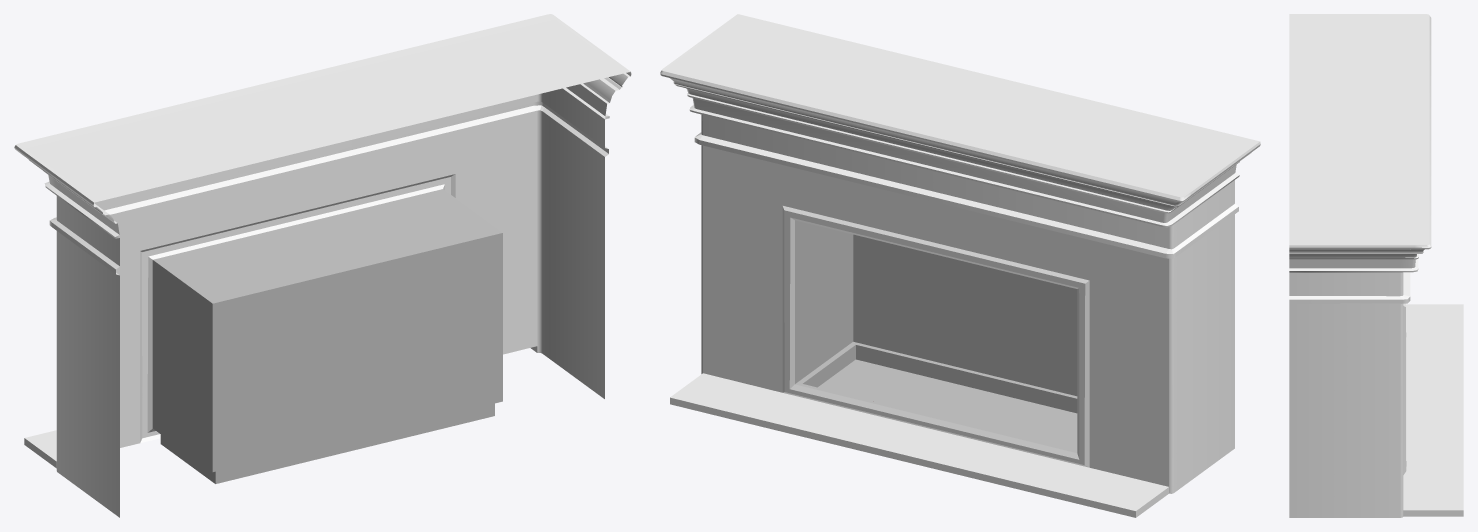
File: LivingRoomFireplace.FBX
3 views of the same model, side by side, from view 1: azimuth 30°, elevation 25°; view 2: azimuth 150°, elevation 25°; view 3: azimuth 270°, elevation 25° (orthographic). The views are drawn at different scales.
Visible parts, largest first — view 1: FirePlace; view 2: FirePlace; view 3: FirePlace.
Boxes of the visible parts, x1,y1,x2,y2 form: FirePlace: (14,14,631,517); FirePlace: (660,14,1260,517); FirePlace: (1289,14,1463,517).
Bounding box in the file's own units: 2.31 × 1.32 × 0.736.
